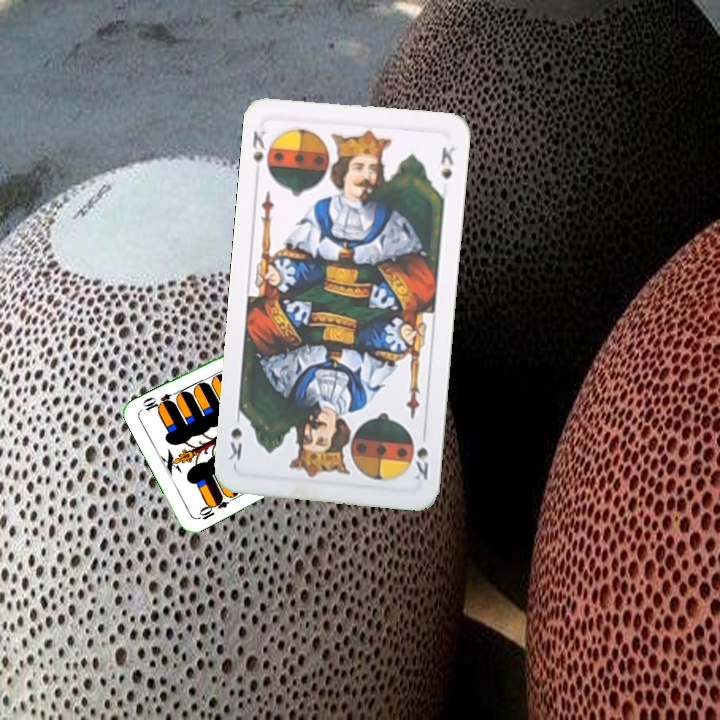E10: (193, 493, 230, 523)
SK: (248, 126, 271, 165), (409, 443, 431, 483)
